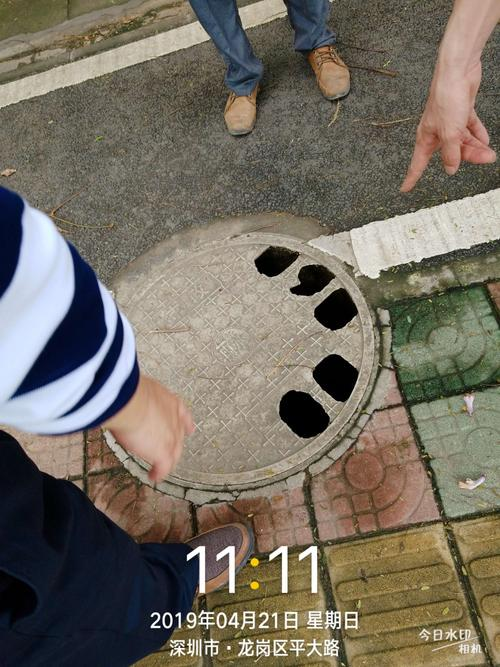broke: (69, 212, 394, 514)
